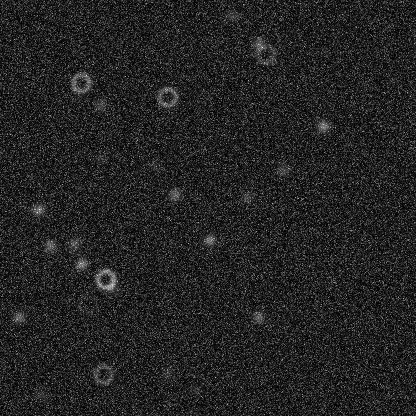Ring: (155, 84, 179, 108), (93, 267, 117, 291), (91, 362, 115, 386), (75, 291, 99, 315), (253, 42, 277, 66), (68, 70, 92, 94)
Spot: (10, 309, 26, 325), (201, 232, 217, 248), (224, 7, 240, 23), (166, 186, 182, 202), (104, 279, 120, 295), (250, 35, 266, 51), (187, 381, 203, 397), (33, 386, 49, 402), (92, 97, 108, 113), (66, 235, 82, 251), (315, 118, 331, 134), (159, 365, 175, 381), (92, 151, 108, 167), (73, 255, 89, 271), (30, 201, 46, 217), (238, 189, 254, 205), (42, 237, 58, 253), (275, 161, 291, 177), (147, 157, 163, 173), (250, 309, 266, 325)
